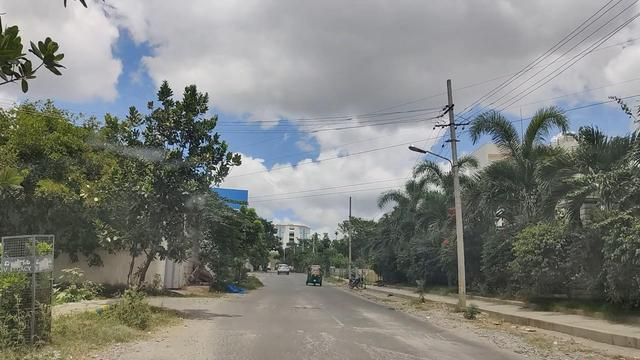RoadDamages: (283, 301, 333, 315)
